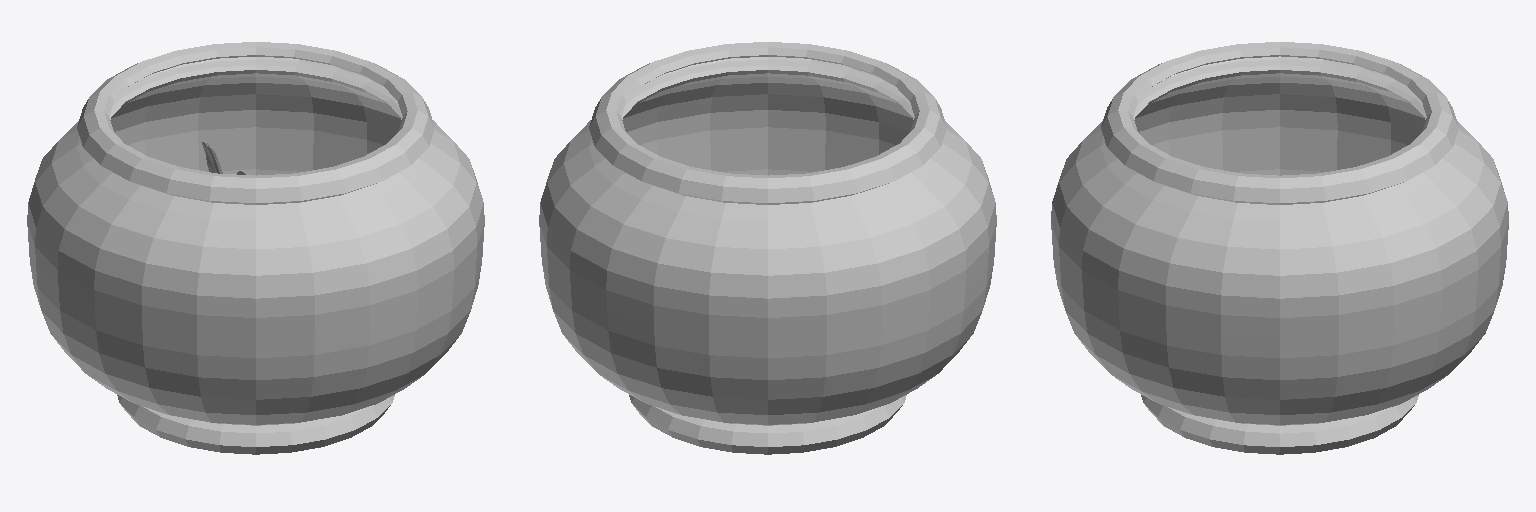
Rendered from FishAndBowl.obj.
3 renders of one model, left to right at view 1: azimuth 30°, elevation 25°; view 2: azimuth 150°, elevation 25°; view 3: azimuth 270°, elevation 25°, orthographic.
Visible parts, largest first — view 1: FishBowl; view 2: FishBowl; view 3: FishBowl.
Boxes of the visible parts, x1,y1,x2,y2 form: FishBowl: [27, 42, 484, 454]; FishBowl: [539, 42, 996, 454]; FishBowl: [1051, 42, 1508, 454].
Size of the model in its own units: 30.65 by 21.54 by 30.65.